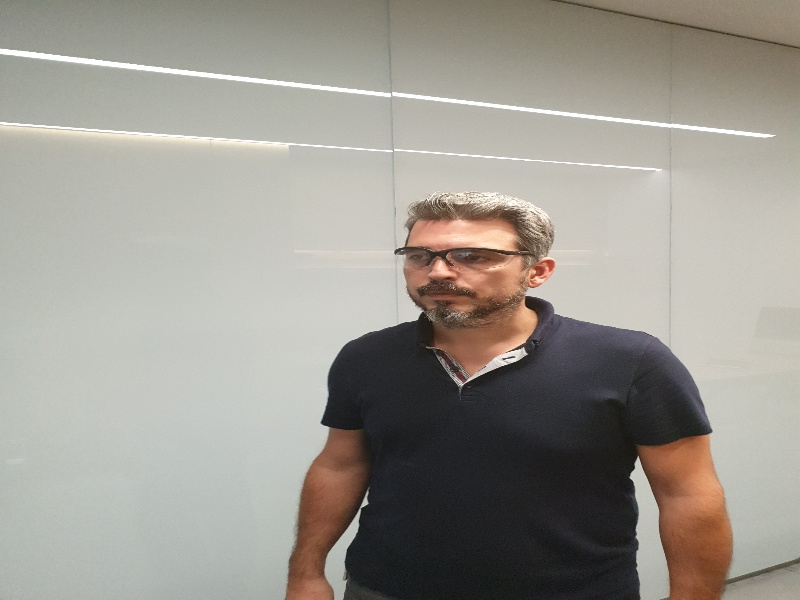Gozluk: (393, 247, 532, 269)
